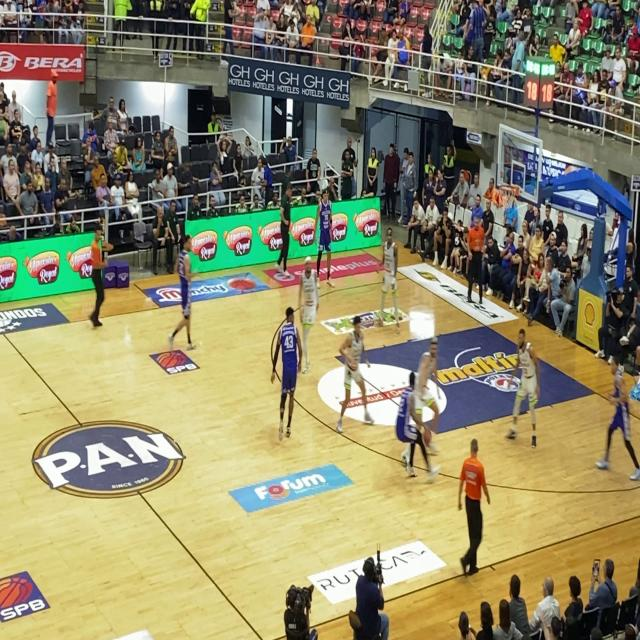referee: (453, 433, 489, 592), (462, 206, 498, 327), (80, 215, 112, 339)
team1: (497, 314, 544, 452), (335, 302, 373, 451), (296, 242, 327, 385), (374, 218, 407, 350)
team2: (589, 335, 640, 495), (384, 356, 431, 490), (261, 294, 301, 442), (164, 227, 202, 370), (311, 184, 341, 291)
ubasket: (498, 180, 518, 215)
